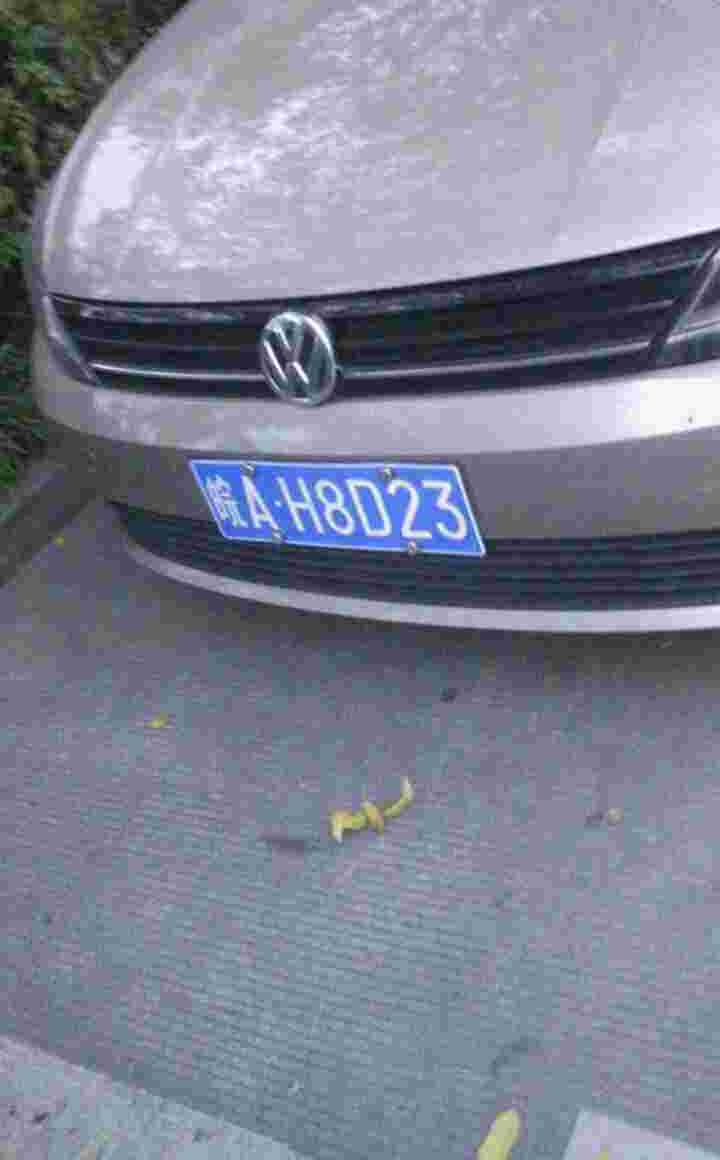license_plate: (203, 465, 475, 562)
